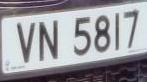1: (111, 8, 125, 57)
5: (71, 10, 94, 63)
7: (121, 6, 141, 55)
8: (92, 9, 113, 60)
N: (39, 14, 63, 67)
V: (14, 17, 37, 69)
